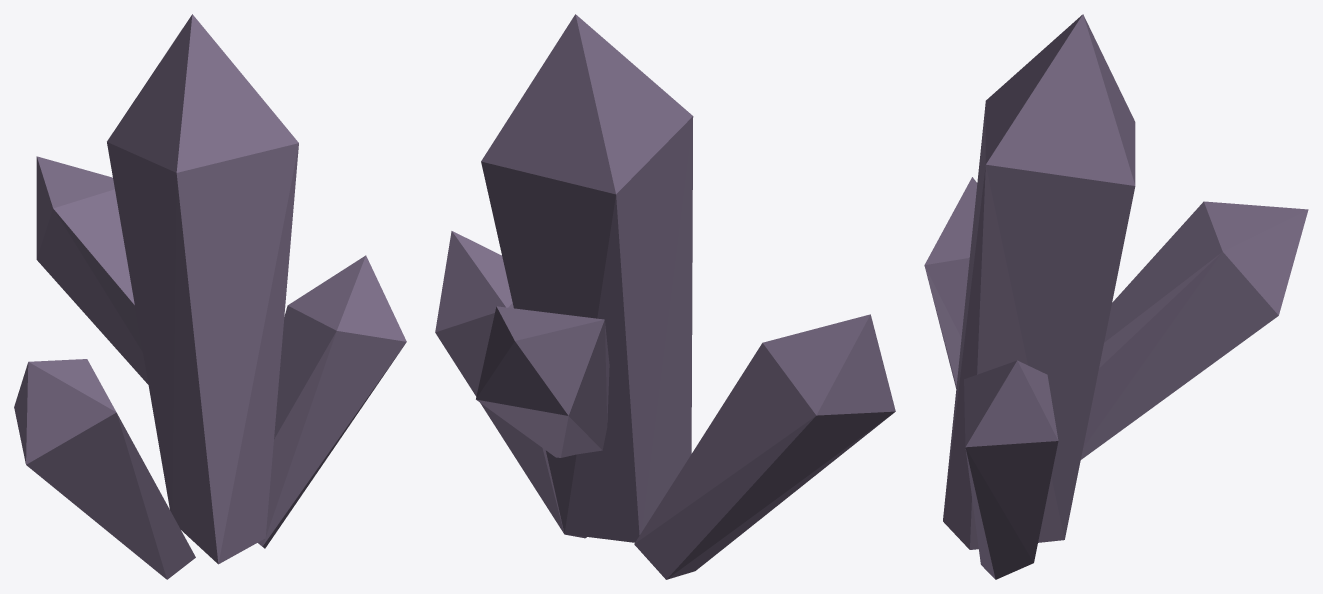
Rendered from crystal_1 (1).fbx.
The picture shows the model from 3 angles, left to right: view 1: azimuth 30°, elevation 25°; view 2: azimuth 150°, elevation 25°; view 3: azimuth 270°, elevation 25°; orthographic projection. The views are drawn at different scales.
Visible parts, largest first — view 1: polySurface333; view 2: polySurface333; view 3: polySurface333.
Boxes of the visible parts, left/top/right/bottom form: polySurface333: left=14, top=14, right=406, bottom=579; polySurface333: left=435, top=14, right=895, bottom=579; polySurface333: left=924, top=14, right=1308, bottom=579.
Bounding box in the file's own units: 9.12 × 11.66 × 7.3.
